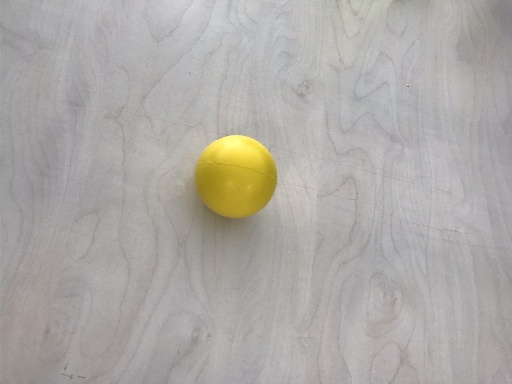Palla: (194, 133, 280, 221)
